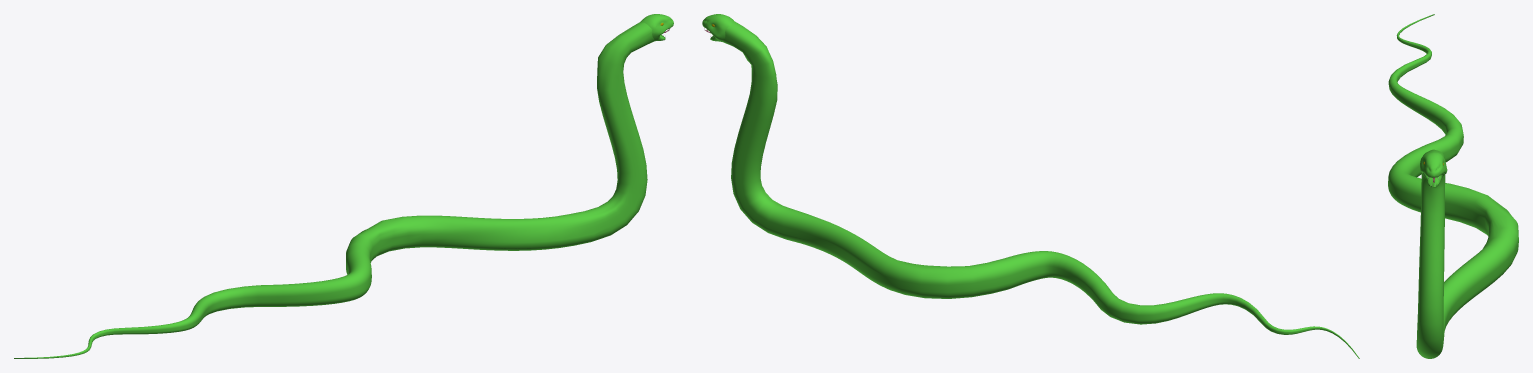
Rendered from standingSnake.fbx.
3 views of the same model, side by side, from view 1: azimuth 30°, elevation 25°; view 2: azimuth 150°, elevation 25°; view 3: azimuth 270°, elevation 25° (orthographic). The views are drawn at different scales.
Visible parts, largest first — view 1: cuerpo; view 2: cuerpo; view 3: cuerpo.
Part boxes in pixels (x1,y1,x2,y2): cuerpo: [14, 14, 673, 358]; cuerpo: [702, 14, 1359, 358]; cuerpo: [1388, 14, 1518, 358].
Bounding box in the file's own units: 564 × 171 × 87.28.
